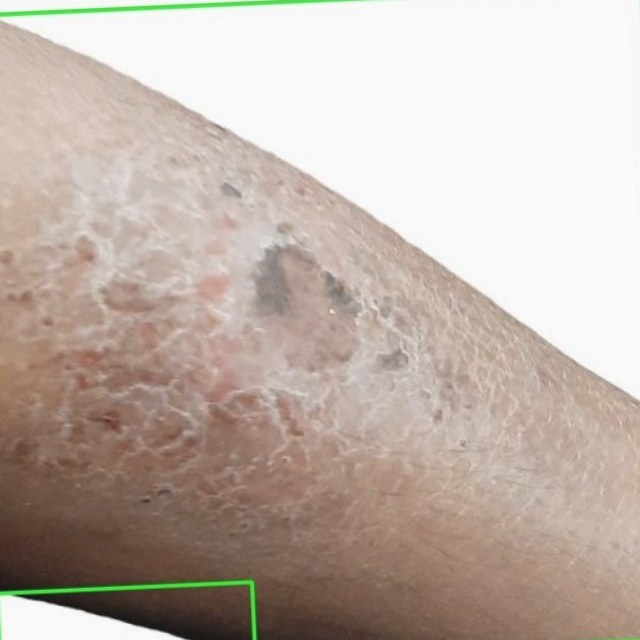Eczema: (0, 0, 639, 639), (0, 582, 253, 639)
